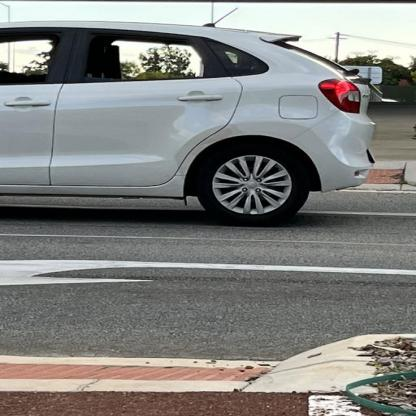Tire: (196, 143, 310, 225)
